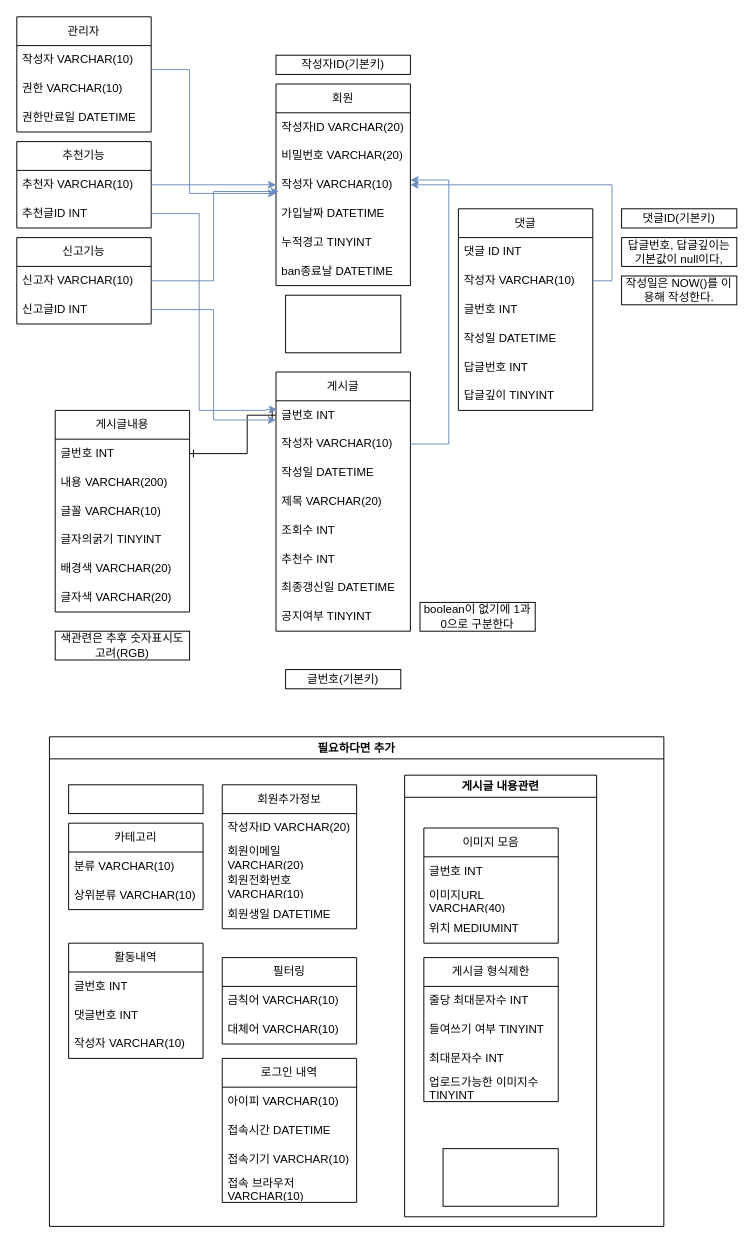
This 754x1243 diagram has some shape labels left out. The centre of each missing label's shape, as x and y in pixels:
"부분적인 글자의 강조, 일부 글자에 배경색 주기" belongs at pixel 500 1177.
"상위카테고리는 한단계만 존재" belongs at pixel 135 799.
"작성자(이름)는 null값을 허용하지 않고, 중복되지 않는다." belongs at pixel 343 323.
